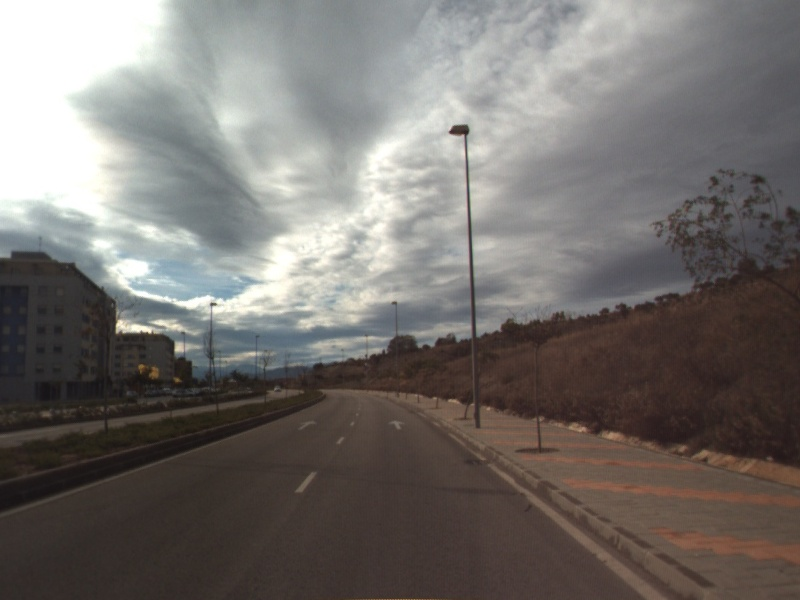STRAIGHT: (295, 418, 319, 432), (386, 418, 407, 431)
